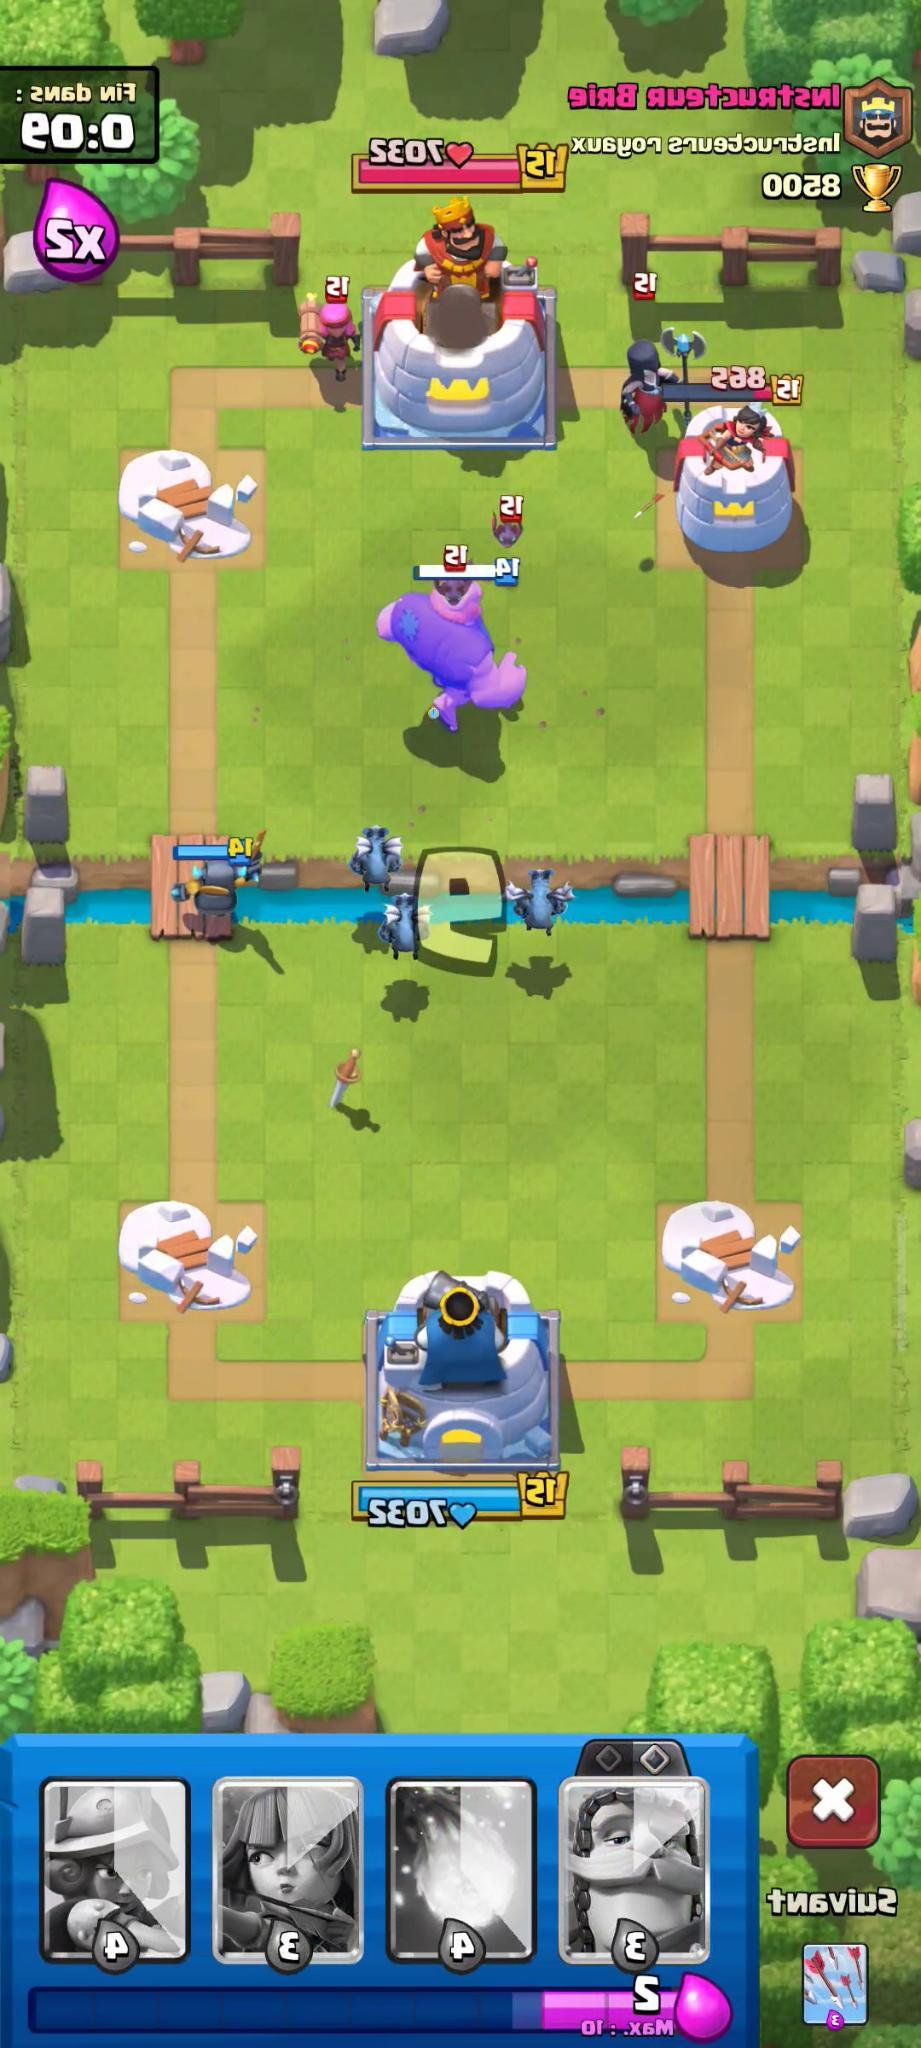enemy_bats: (483, 495, 533, 553)
enemy_firecracker: (293, 280, 367, 378)
enemy_night_witch: (609, 289, 709, 437)
player_giant: (370, 558, 535, 740)
player_mini_pekka: (155, 833, 280, 929)
player_minions: (494, 856, 580, 941), (357, 890, 435, 963), (343, 817, 411, 889)
